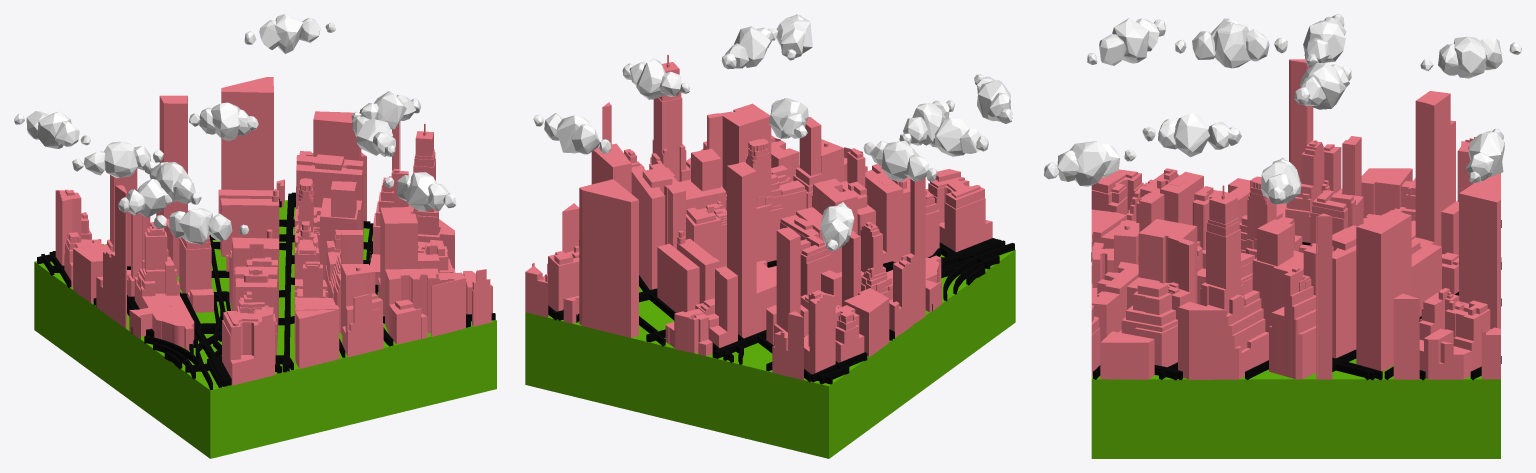
File: MS_ENV_CityBox01.fbx
3 renders of one model, left to right at view 1: azimuth 30°, elevation 25°; view 2: azimuth 150°, elevation 25°; view 3: azimuth 270°, elevation 25°, orthographic. The views are drawn at different scales.
Parts seen in each view (by area): view 1: MS_ENV_CityBox01; view 2: MS_ENV_CityBox01; view 3: MS_ENV_CityBox01.
Boxes of the visible parts, x1,y1,x2,y2 form: MS_ENV_CityBox01: (14, 14, 496, 458); MS_ENV_CityBox01: (525, 14, 1015, 458); MS_ENV_CityBox01: (1044, 14, 1521, 458).
Bounding box in the file's own units: 61.91 × 47.73 × 68.29.
